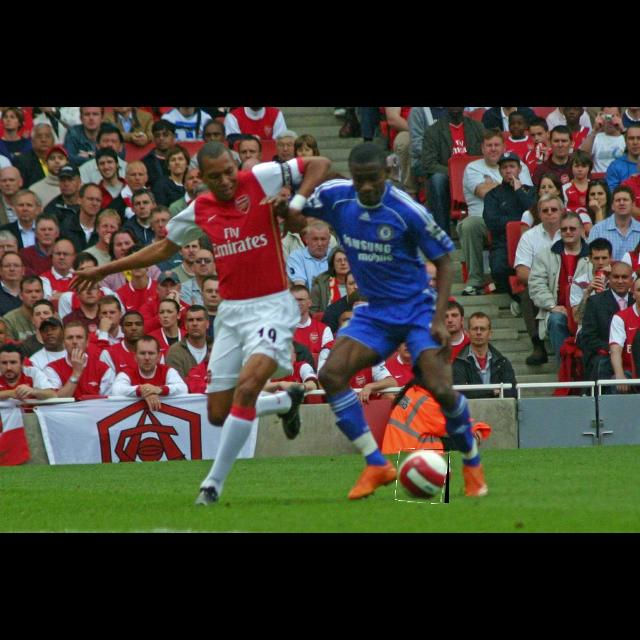Football: (397, 449, 449, 503)
